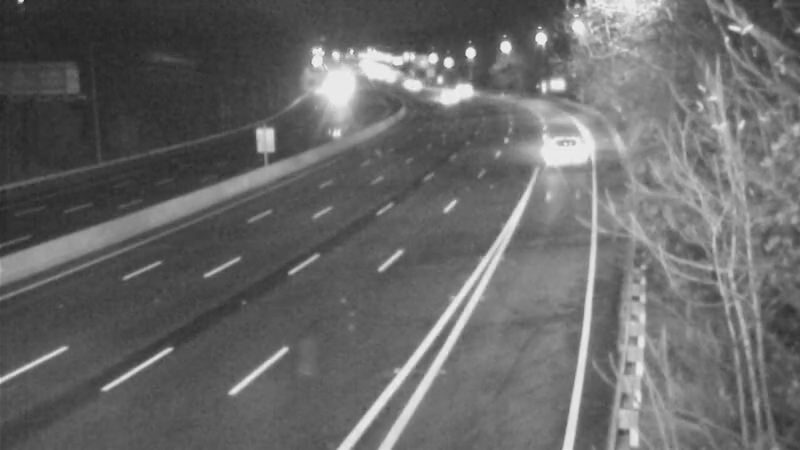vehicle: (436, 63, 486, 113), (428, 74, 478, 124), (540, 110, 590, 160)
